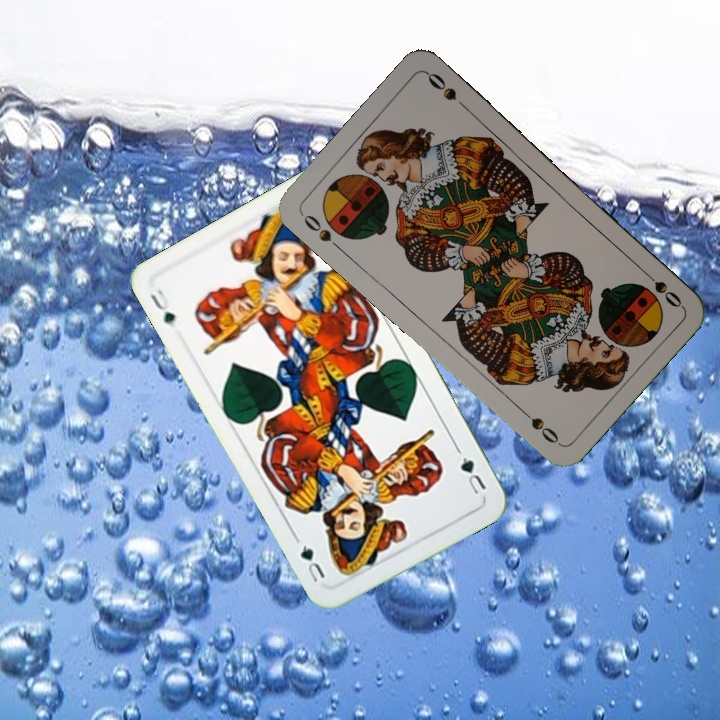GU: (453, 444, 489, 497), (145, 285, 178, 328)
SO: (637, 264, 684, 310), (297, 210, 345, 254)
